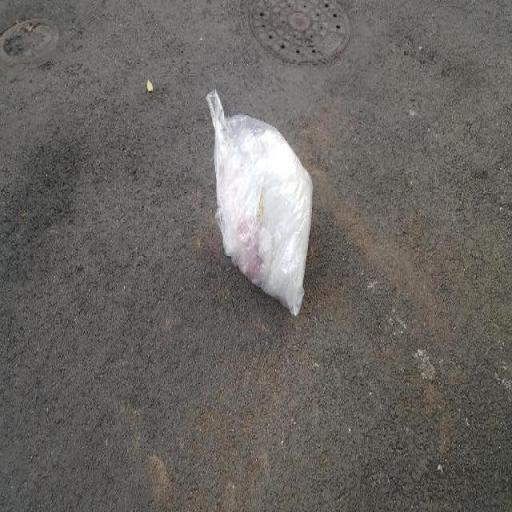plastic-bag: (210, 90, 320, 321)
